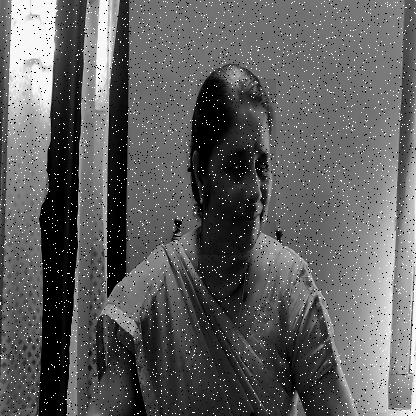Distracted: (197, 79, 276, 255)
